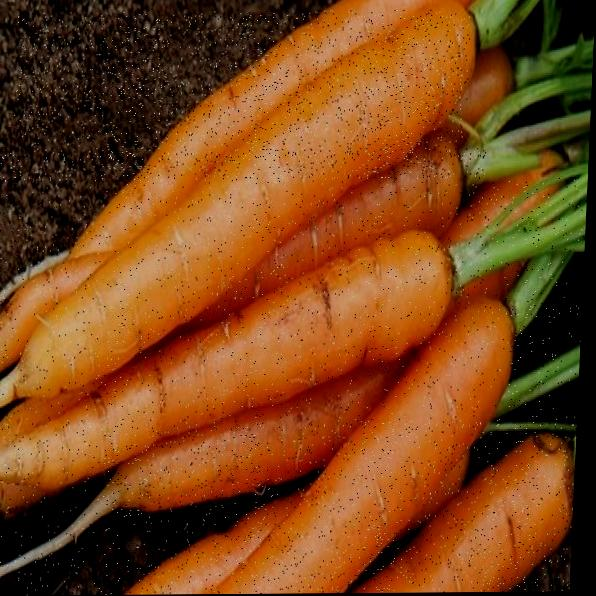carrots: (0, 177, 588, 596), (1, 9, 471, 406), (0, 147, 486, 425), (98, 416, 577, 595)
